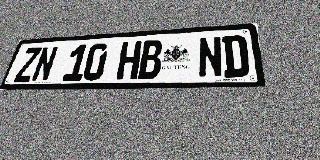0: (82, 43, 109, 81)
1: (62, 44, 90, 81)
B: (138, 40, 163, 79)
D: (222, 35, 250, 78)
H: (116, 41, 142, 80)
N: (198, 36, 223, 78), (30, 46, 59, 82)
Z: (13, 47, 42, 82)
